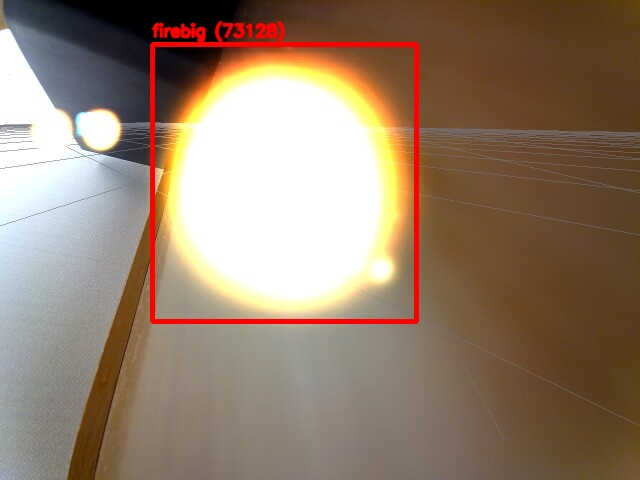firebig: (152, 44, 416, 321)
